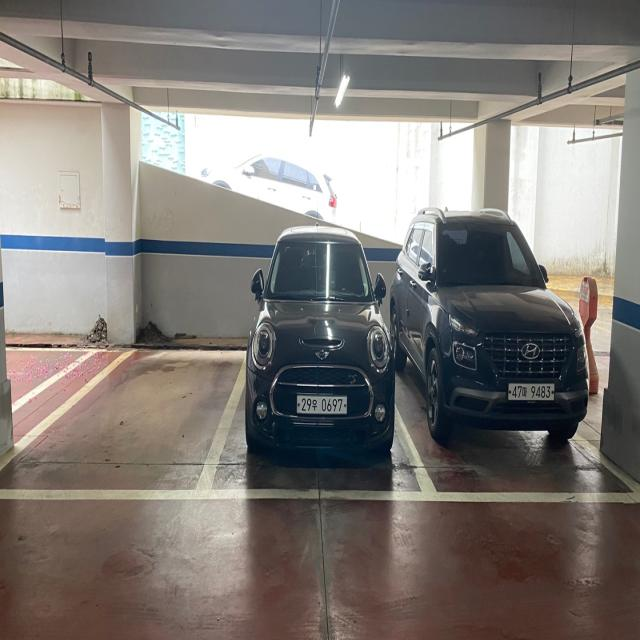empty: (0, 347, 253, 500)
occupied: (412, 204, 588, 434), (248, 223, 398, 461)
